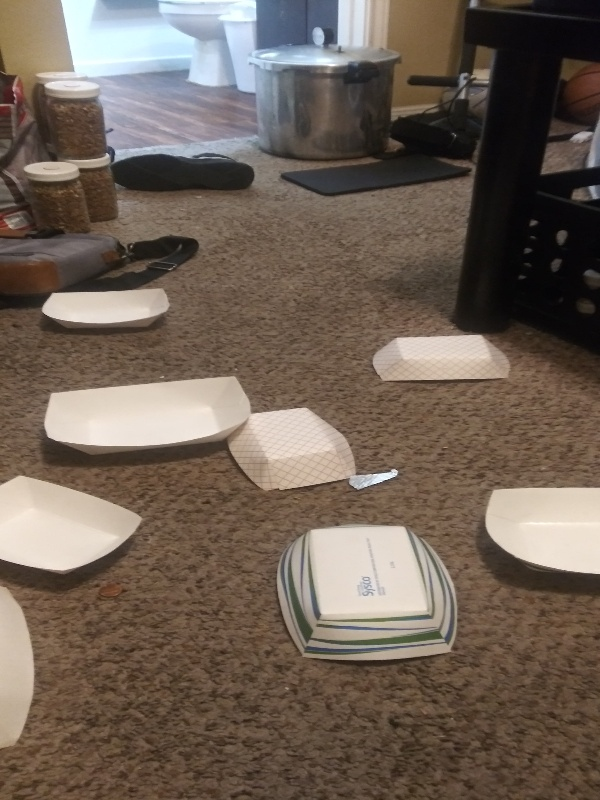plate: (269, 520, 467, 664), (43, 368, 252, 459), (1, 469, 148, 589), (221, 400, 360, 496), (481, 482, 600, 590), (368, 332, 516, 387), (38, 279, 175, 337), (1, 586, 34, 756)
